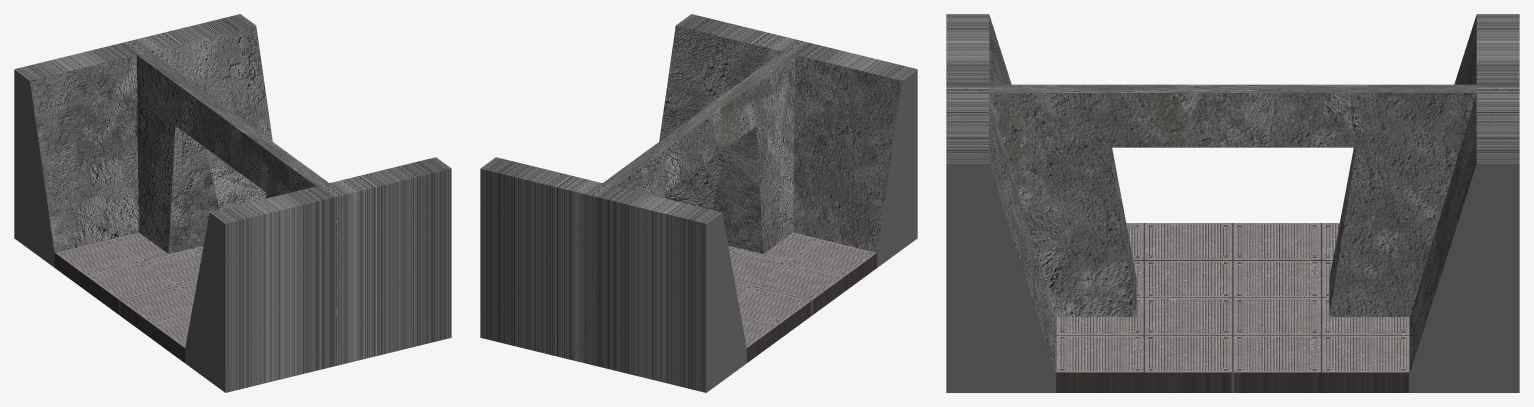
File: Corridor Door.fbx
3 views of the same model, side by side, from view 1: azimuth 30°, elevation 25°; view 2: azimuth 150°, elevation 25°; view 3: azimuth 270°, elevation 25° (orthographic). The views are drawn at different scales.
Visible parts, largest first — view 1: Corridor Door; view 2: Corridor Door; view 3: Corridor Door.
Part boxes in pixels (x1=…): Corridor Door: x1=14, y1=14, x2=451, y2=392; Corridor Door: x1=480, y1=14, x2=917, y2=392; Corridor Door: x1=946, y1=14, x2=1519, y2=392.
Bounding box in the file's own units: 443 × 317 × 717.
